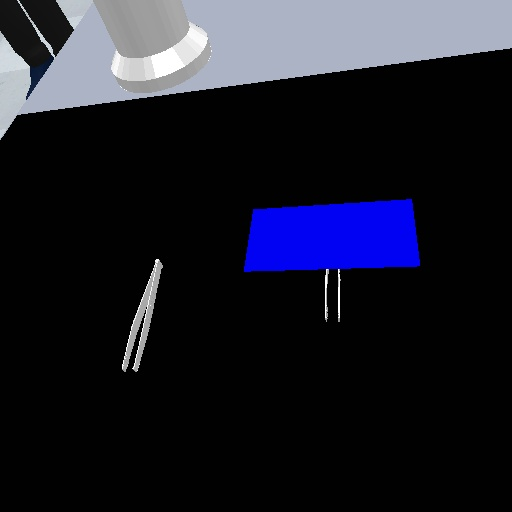pinza: (118, 253, 166, 377), (321, 269, 344, 325)
